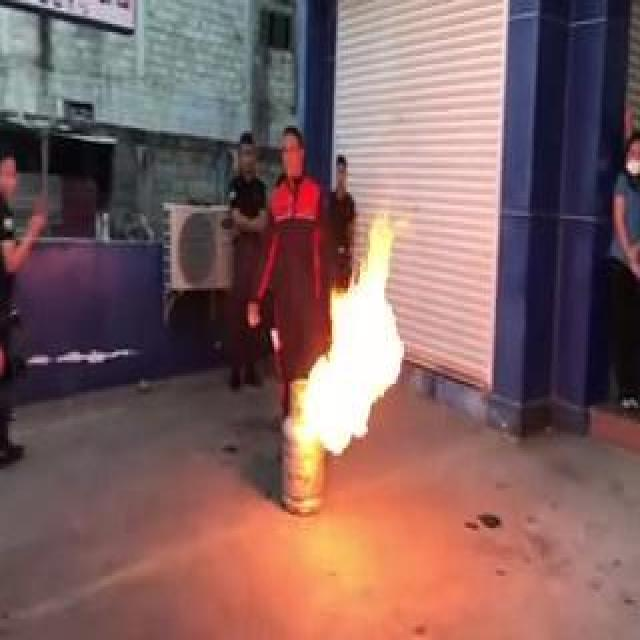Smoke: (293, 206, 409, 454)
